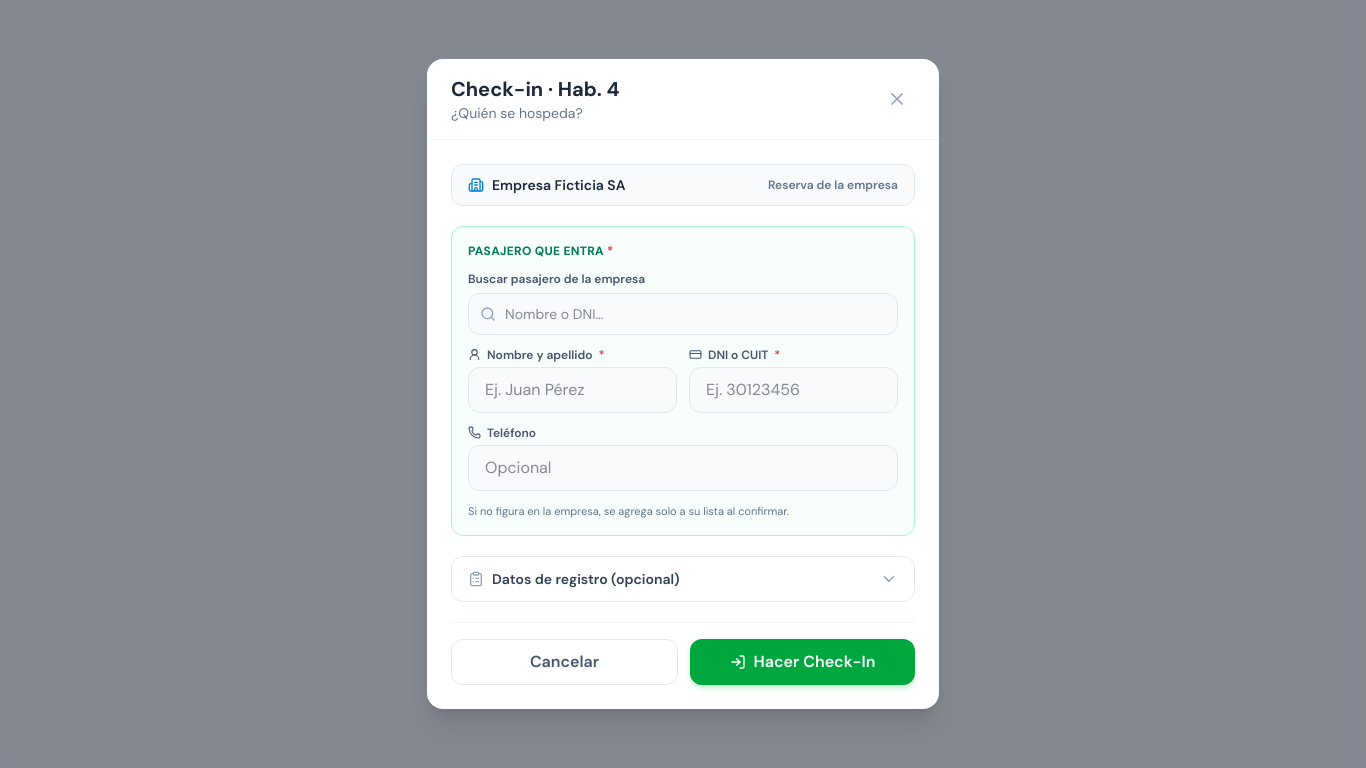
Test: CompanyCheckInModal: el botón dice qué falta › con el formulario vacío el botón está activo y al tocarlo pide nombre y DNI
Click the submit button.
click(802, 662)  # box left=690, top=639, right=915, bottom=685
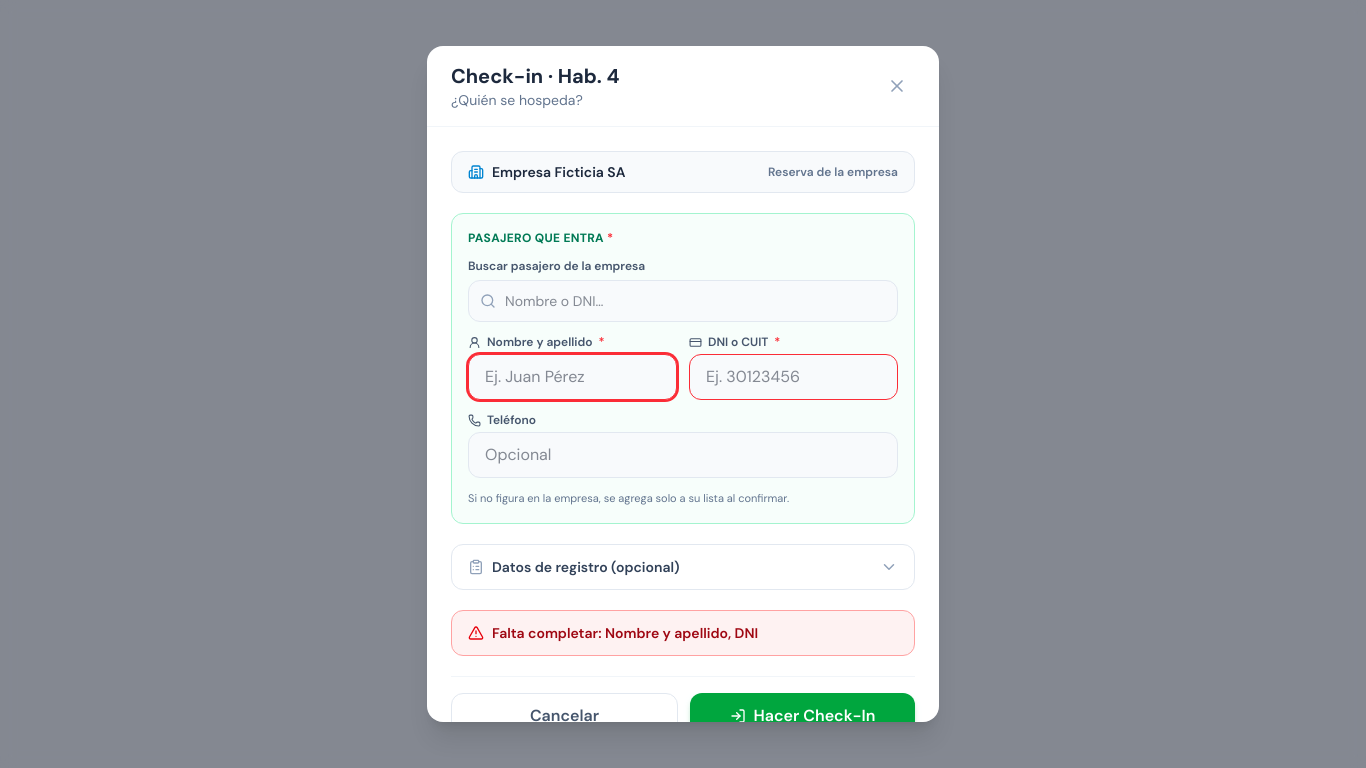
Result: the text "Falta completar: Nombre y apellido, DNI" is shown at left=492, top=623, right=758, bottom=643
